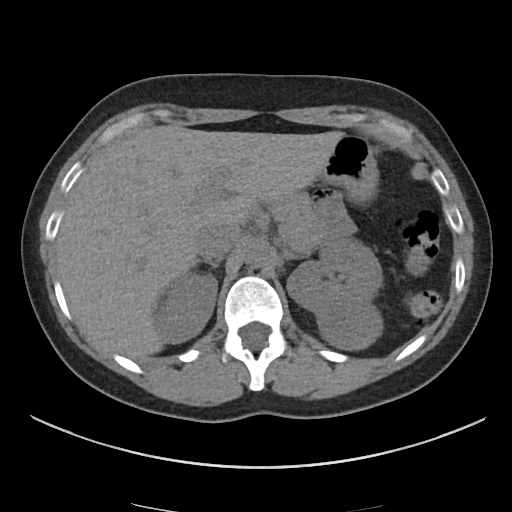Lesion: (315, 295, 386, 356)
